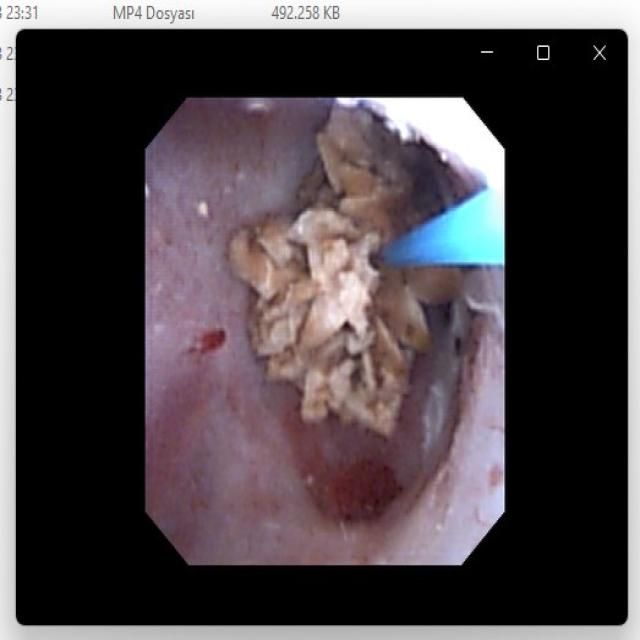fiber: (390, 194, 500, 263)
stone: (229, 105, 460, 432)
